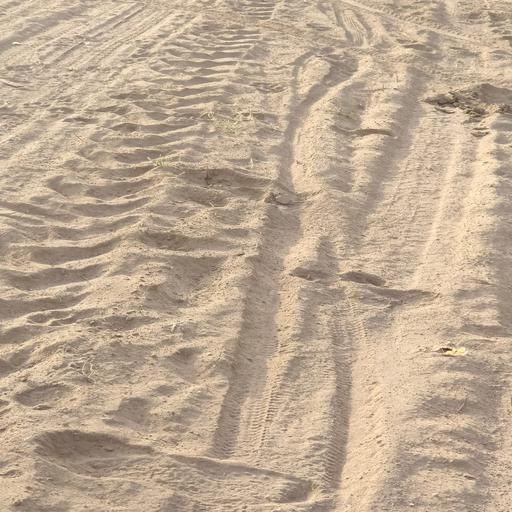vehicle_track: (0, 0, 491, 512)
